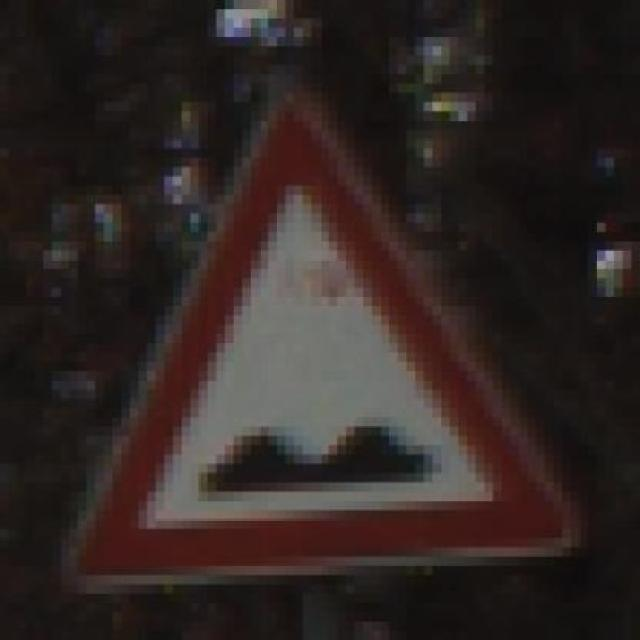Uneven Road: (51, 73, 588, 584)
